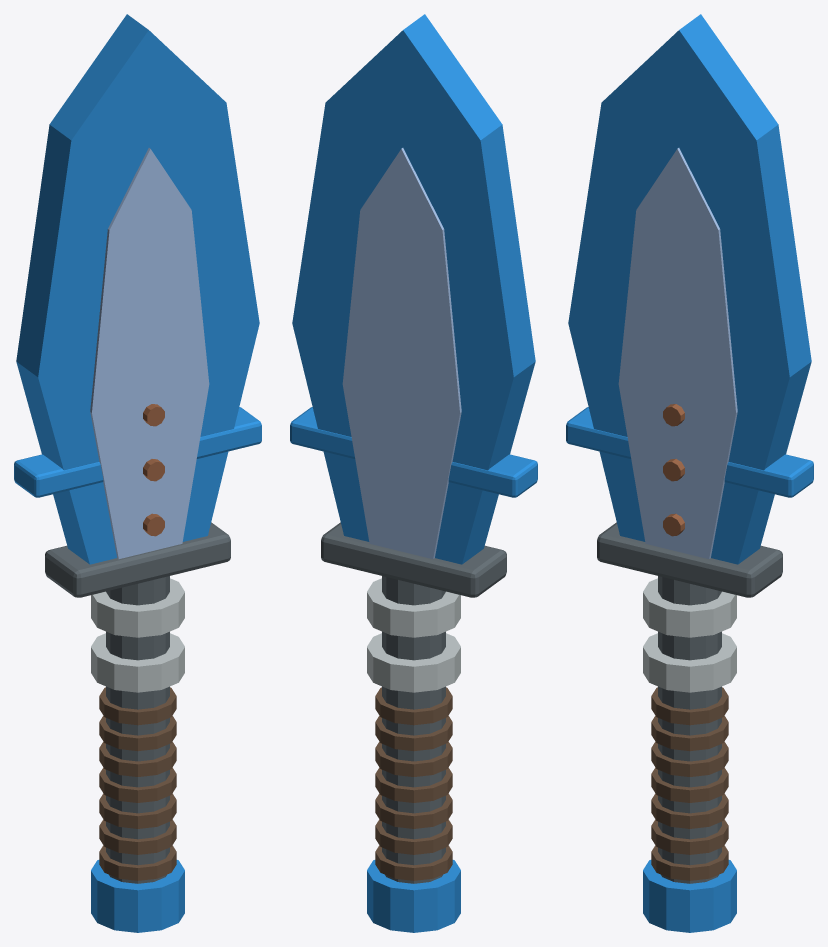
File: BlackoutEdge.fbx
The picture shows the model from 3 angles, left to right: view 1: azimuth 30°, elevation 25°; view 2: azimuth 150°, elevation 25°; view 3: azimuth 330°, elevation 25°; orthographic projection.
Parts seen in each view (by area): view 1: Silhouette.014, Noyau.014, Manche.014, Garde.014, Pommeau.014, Collier.028, Collier.029, Ailette.008, Ailette.009, Bande_06.014, Bande_02.014, Bande_00.014 (+4 smaller); view 2: Silhouette.014, Noyau.014, Manche.014, Garde.014, Pommeau.014, Collier.028, Collier.029, Ailette.008, Ailette.009, Bande_06.014, Bande_02.014, Bande_00.014 (+4 smaller); view 3: Silhouette.014, Noyau.014, Manche.014, Garde.014, Pommeau.014, Collier.028, Collier.029, Ailette.009, Ailette.008, Bande_06.014, Bande_02.014, Bande_00.014 (+4 smaller).
Part boxes in pixels (box(x1,y1,x2,y2)): Silhouette.014: box(16, 14, 259, 564); Noyau.014: box(90, 148, 209, 558); Manche.014: box(106, 576, 169, 883); Garde.014: box(45, 522, 230, 597); Pommeau.014: box(91, 860, 184, 932); Collier.028: box(91, 633, 184, 692); Collier.029: box(91, 578, 184, 637); Ailette.008: box(14, 454, 103, 497); Ailette.009: box(196, 407, 261, 458); Bande_06.014: box(99, 687, 176, 725); Bande_02.014: box(99, 793, 176, 828); Bande_00.014: box(99, 845, 176, 880); Silhouette.014: box(292, 14, 535, 564); Noyau.014: box(342, 148, 461, 558); Manche.014: box(382, 576, 445, 883); Garde.014: box(321, 522, 506, 597); Pommeau.014: box(367, 860, 460, 932); Collier.028: box(367, 633, 460, 692); Collier.029: box(367, 578, 460, 637); Ailette.008: box(448, 454, 537, 497); Ailette.009: box(290, 407, 355, 458); Bande_06.014: box(375, 687, 452, 725); Bande_02.014: box(375, 793, 452, 828); Bande_00.014: box(375, 845, 452, 880); Silhouette.014: box(568, 14, 811, 564); Noyau.014: box(618, 148, 737, 558); Manche.014: box(658, 576, 721, 883); Garde.014: box(597, 522, 782, 597); Pommeau.014: box(643, 860, 736, 932); Collier.028: box(643, 633, 736, 692); Collier.029: box(643, 578, 736, 637); Ailette.009: box(724, 454, 813, 497); Ailette.008: box(566, 407, 631, 458); Bande_06.014: box(651, 687, 728, 725); Bande_02.014: box(651, 793, 728, 828); Bande_00.014: box(651, 845, 728, 880).
Bounding box in the file's own units: 78 × 292 × 28.
